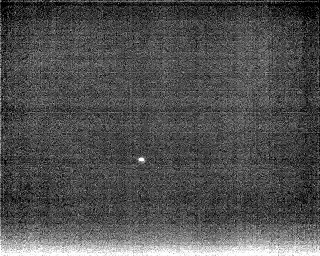AIRPLANE: (136, 154, 147, 165)
